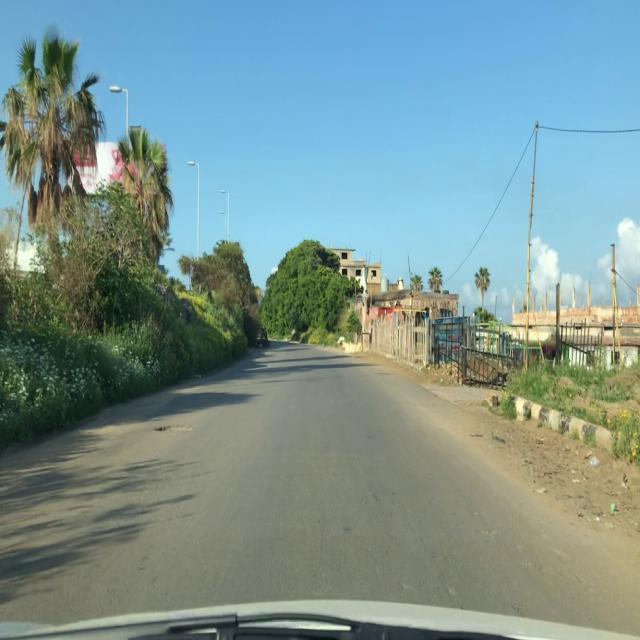Buraco: (151, 423, 198, 434)
